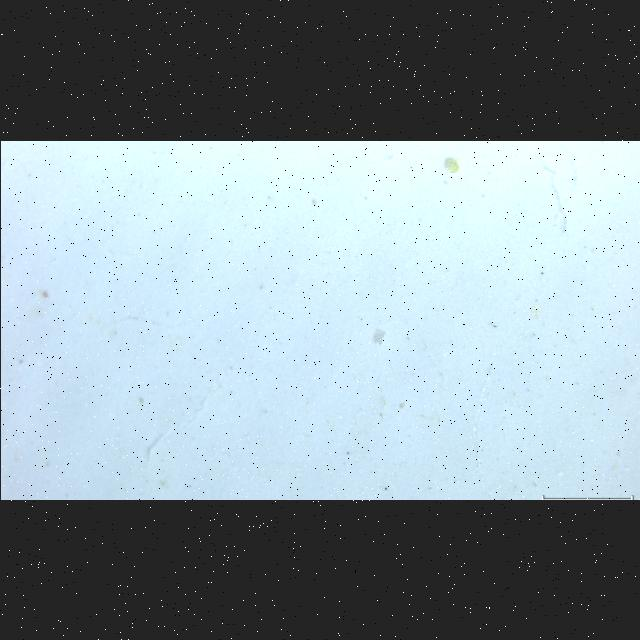Fibre: (542, 164, 566, 232), (146, 428, 172, 461)
Fragment: (443, 158, 458, 172), (373, 329, 385, 344)
